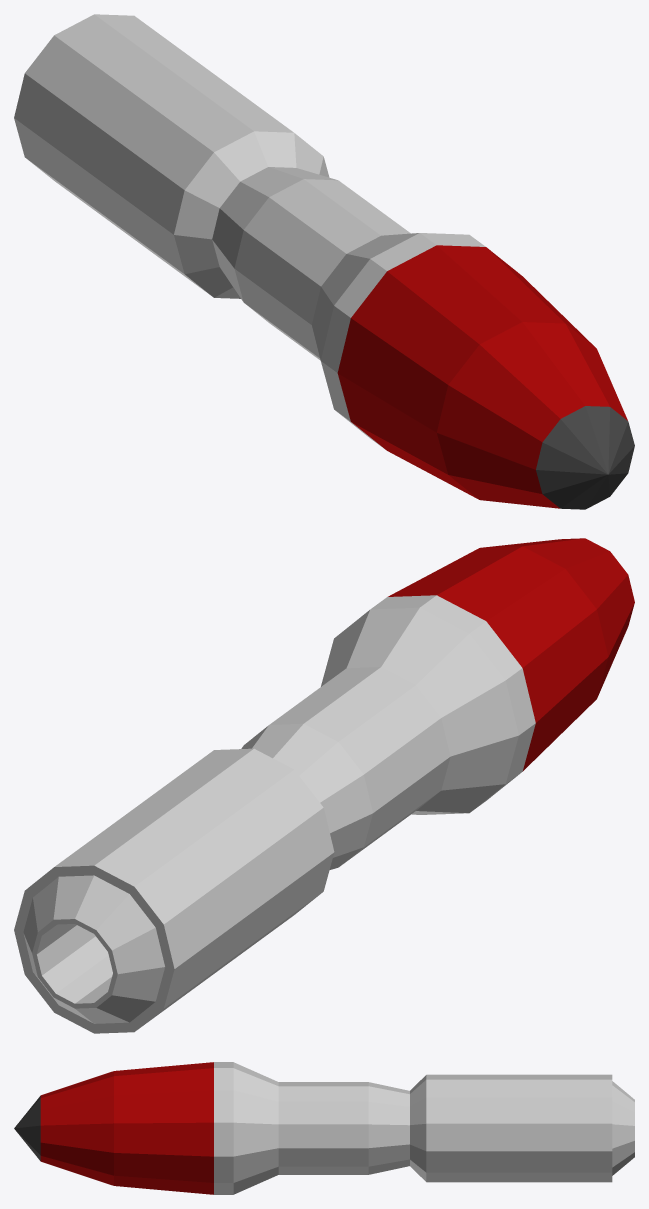
File: rocket2.dae
3 views of the same model, one above another, from view 1: azimuth 30°, elevation 25°; view 2: azimuth 150°, elevation 25°; view 3: azimuth 270°, elevation 25° (orthographic). The views are drawn at different scales.
Parts seen in each view (by area): view 1: Oil_Tank; view 2: Oil_Tank; view 3: Oil_Tank.
Boxes of the visible parts, x1,y1,x2,y2 form: Oil_Tank: (14,14,634,509); Oil_Tank: (14,538,634,1033); Oil_Tank: (14,1062,634,1194).
Bounding box in the file's own units: 888 × 888 × 4139.
